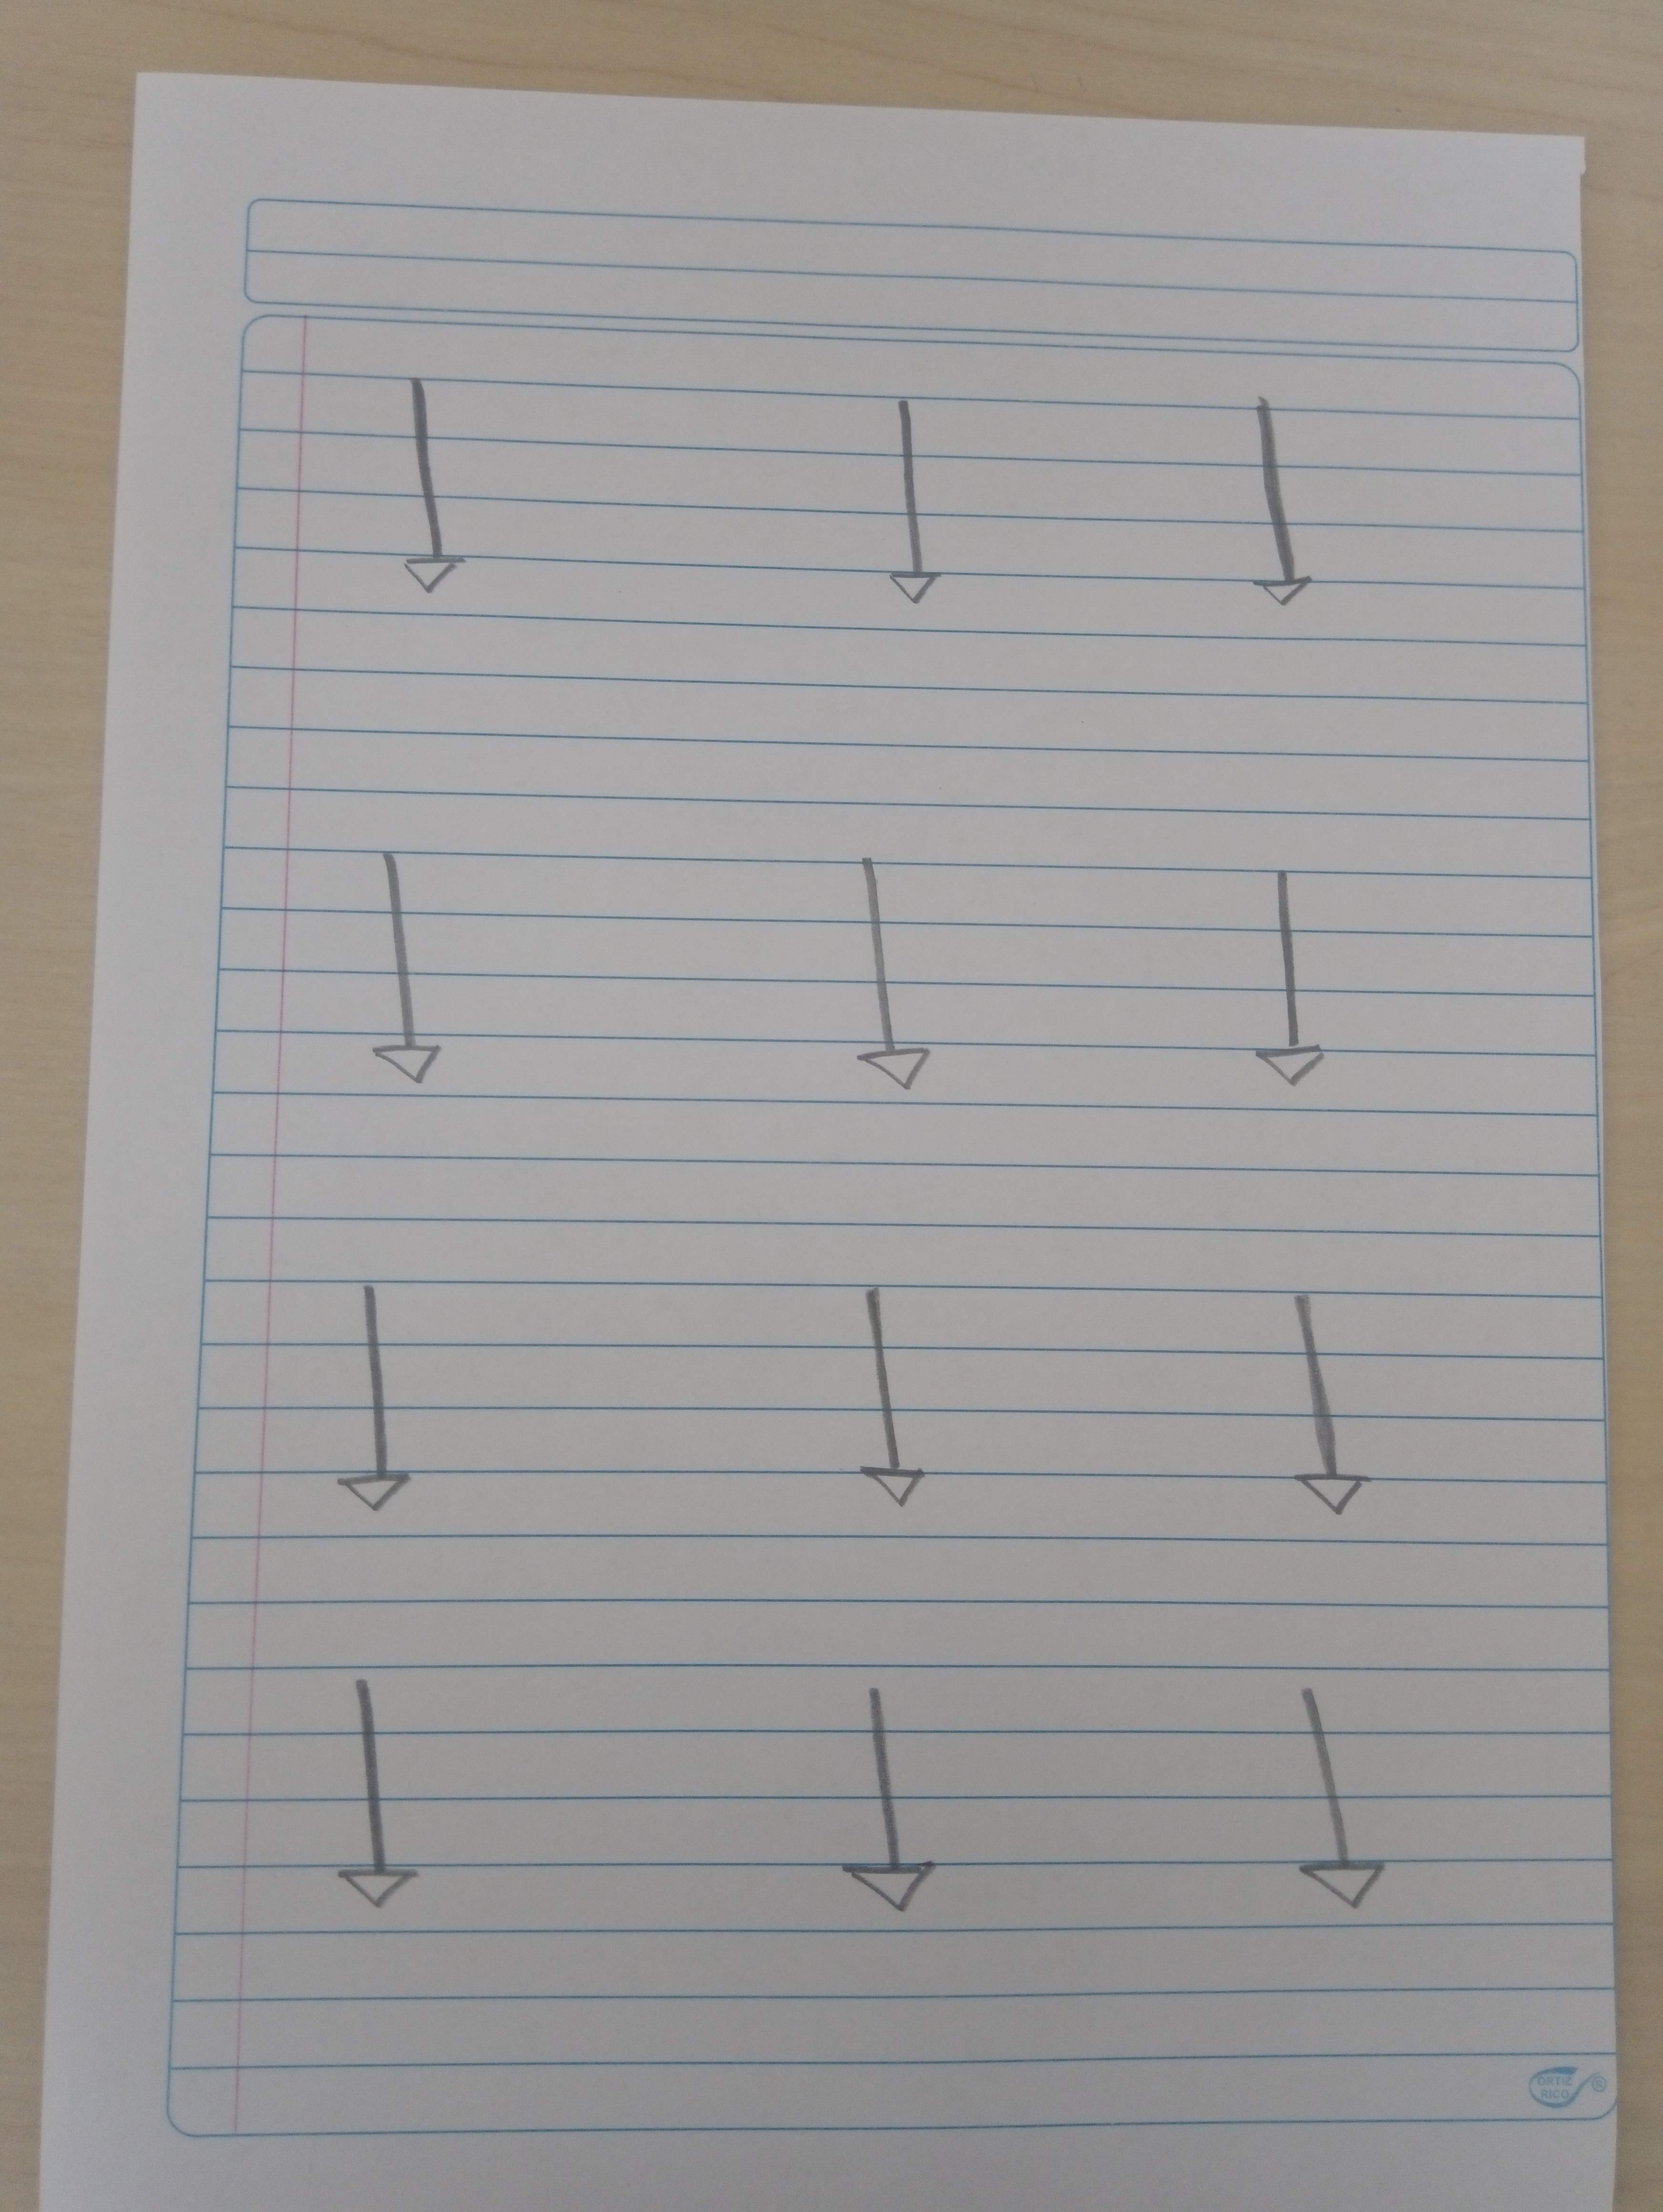arrow_line_down: (1246, 1678, 1404, 1920), (819, 848, 952, 1095), (332, 845, 454, 1109), (812, 1671, 929, 1917), (819, 1285, 945, 1510), (311, 1678, 428, 1913), (318, 1278, 424, 1528), (1272, 1281, 1385, 1510), (384, 361, 482, 608), (1242, 871, 1345, 1091), (1232, 395, 1326, 604), (861, 405, 949, 618)
